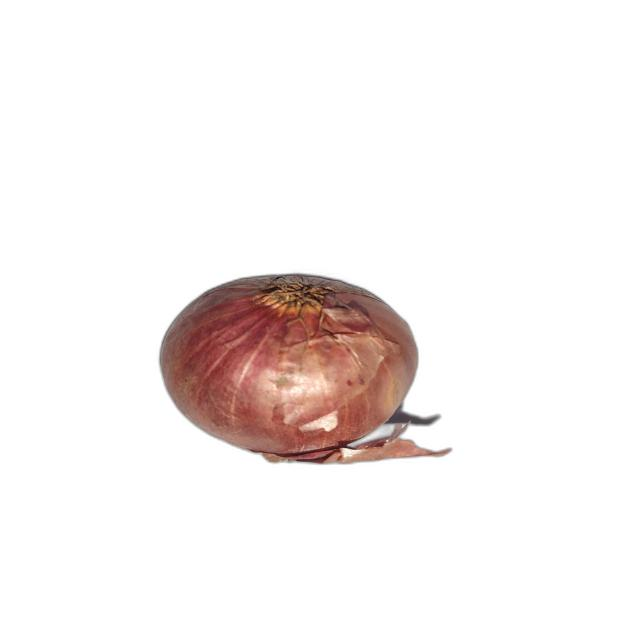onion: (156, 275, 450, 465)
